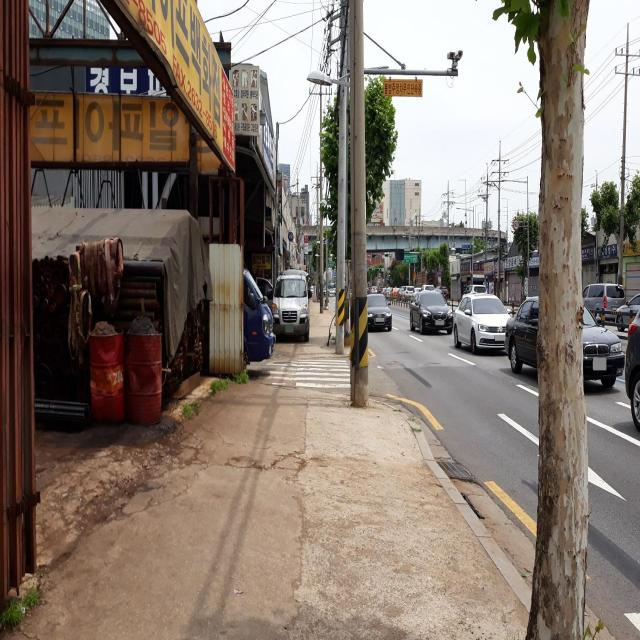횡단보도: (258, 358, 350, 388)
